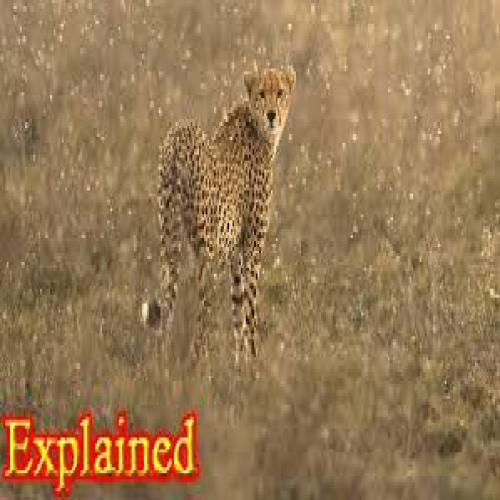cheetah-endangered: (155, 69, 292, 360)
